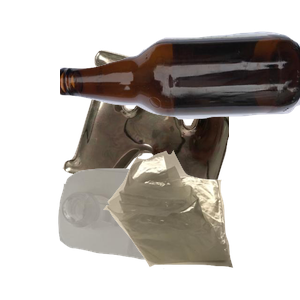glass: (60, 29, 300, 141)
metal: (60, 47, 300, 227)
plastic: (56, 166, 241, 300)
trash: (101, 148, 300, 300)
